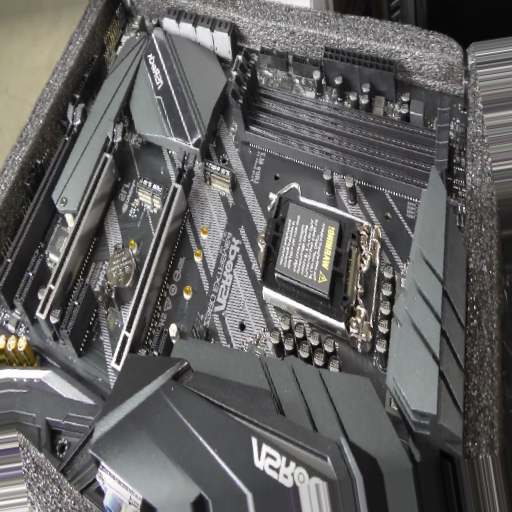CPU: (257, 190, 381, 323)
GPU: (36, 123, 129, 333), (111, 152, 196, 373), (1, 104, 90, 303)
MOTHERBOARD: (5, 12, 488, 503)
RAM: (234, 57, 454, 189)
SSD: (135, 174, 166, 211), (201, 162, 232, 193)
